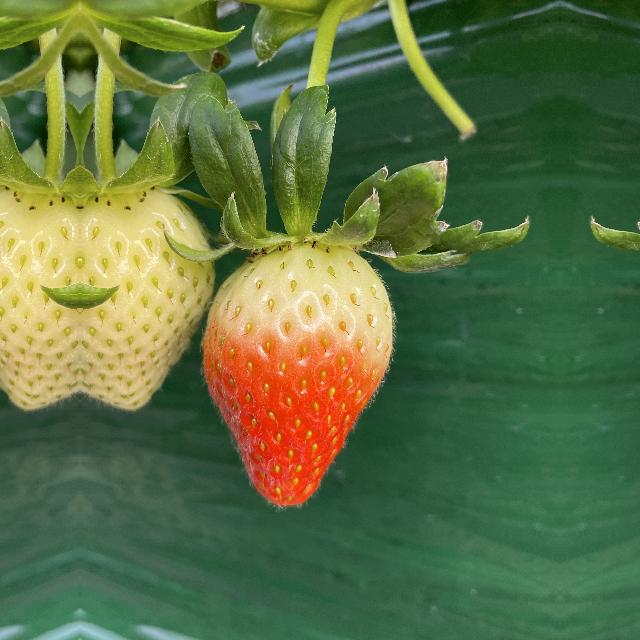Health_25: (80, 168, 218, 416), (0, 167, 79, 416)
Health_75: (202, 228, 402, 524)
